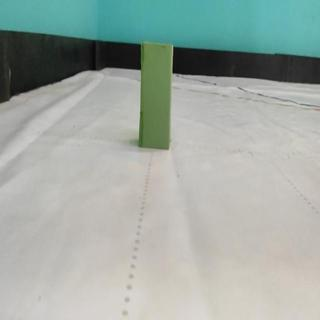greenbox: (137, 41, 174, 152)
